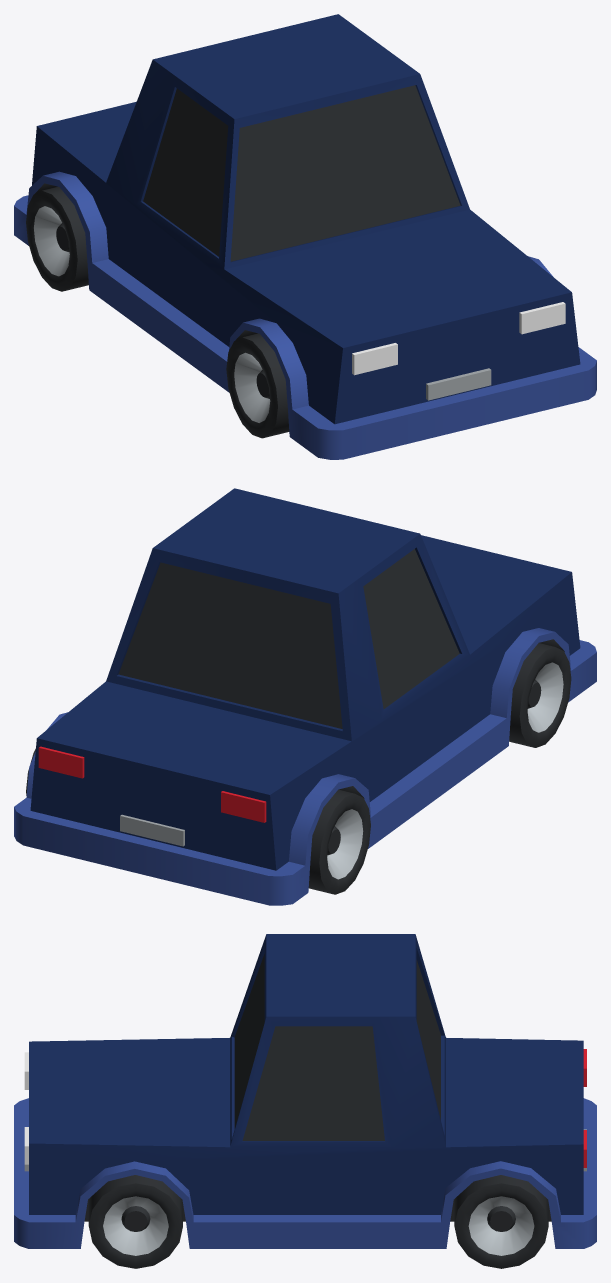
File: Race Royale.fbx_Car1.fbx
The picture shows the model from 3 angles, top to bottom: view 1: azimuth 30°, elevation 25°; view 2: azimuth 150°, elevation 25°; view 3: azimuth 270°, elevation 25°; orthographic projection. The views are drawn at different scales.
Parts seen in each view (by area): view 1: Car1, Car1Wheel2, Car1Wheel4; view 2: Car1, Car1Wheel4, Car1Wheel2; view 3: Car1, Car1Wheel3, Car1Wheel1.
Part boxes in pixels (box(x1,y1,x2,y2)): Car1: box(14, 14, 596, 459); Car1Wheel2: box(226, 333, 289, 438); Car1Wheel4: box(26, 186, 88, 291); Car1: box(14, 488, 596, 905); Car1Wheel4: box(308, 789, 370, 894); Car1Wheel2: box(509, 643, 571, 747); Car1: box(14, 934, 596, 1248); Car1Wheel3: box(454, 1175, 548, 1268); Car1Wheel1: box(88, 1175, 182, 1268).
Size of the model in its own units: 289 by 232 by 538.
